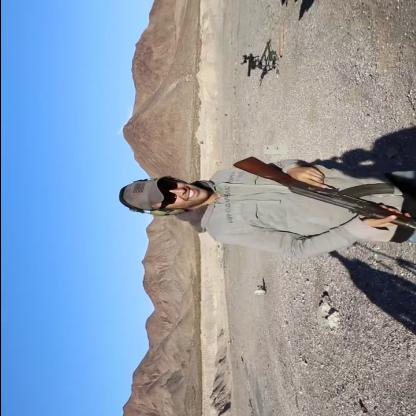long weapon: (226, 157, 415, 251), (223, 49, 274, 85)
